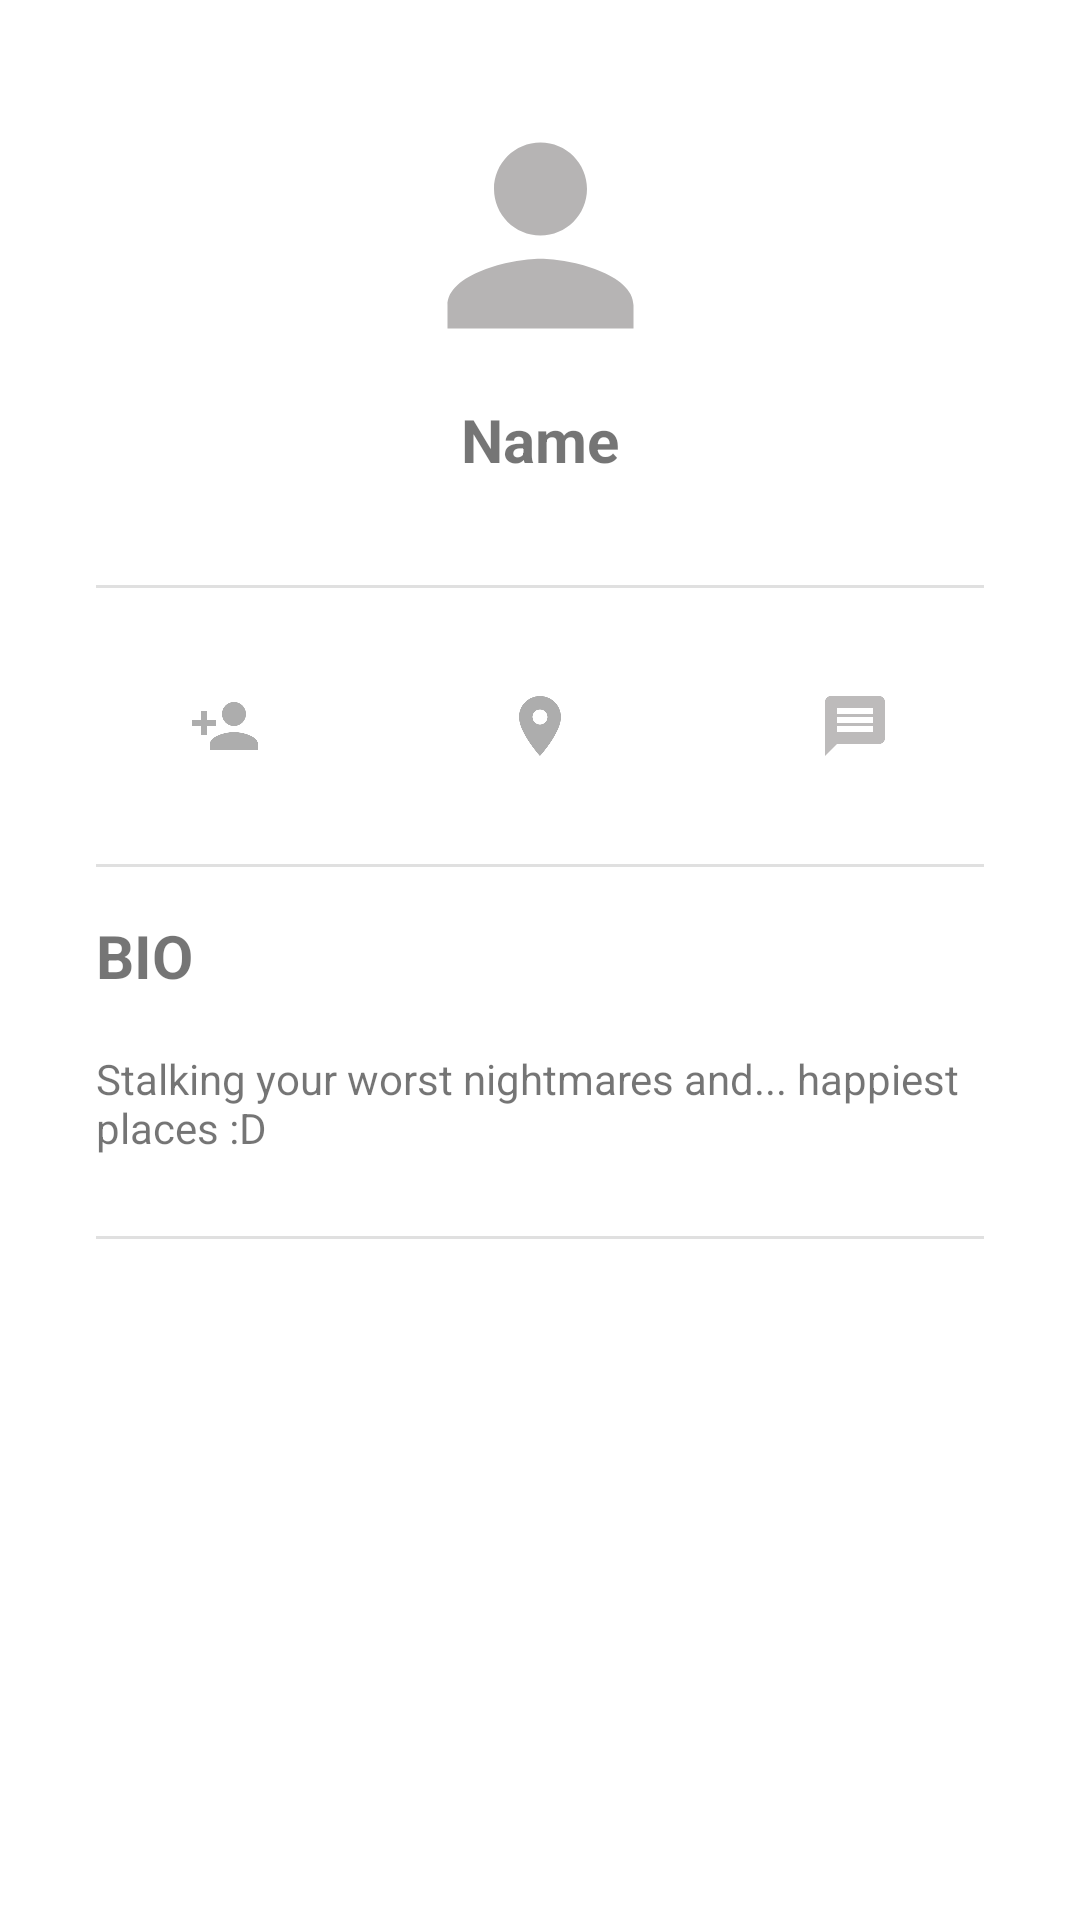

Where icons sit on this 1080 x 1920 app screen, as (x1, y1, x2, y2):
add person icon: (192, 702, 258, 750)
location icon: (519, 696, 561, 756)
person: (447, 142, 634, 329)
